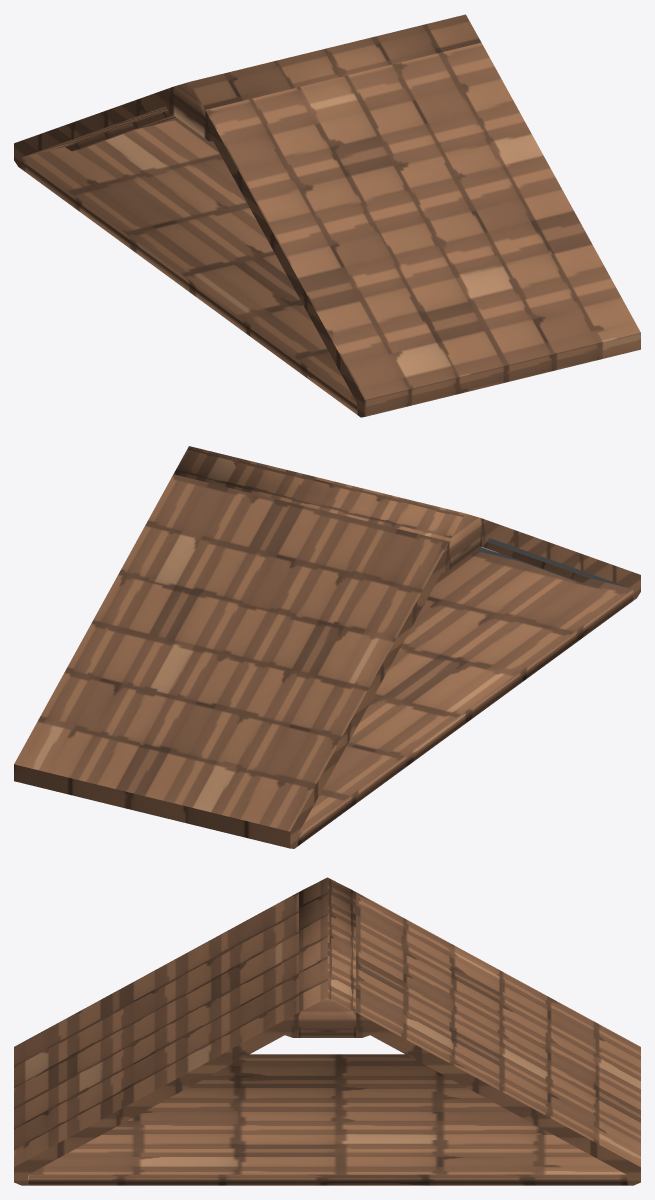
File: SM_Bld_Villa_Roof_Straight_01_edit.fbx
3 renders of one model, top to bottom at view 1: azimuth 30°, elevation 25°; view 2: azimuth 150°, elevation 25°; view 3: azimuth 270°, elevation 25°, orthographic. The views are drawn at different scales.
Parts seen in each view (by area): view 1: SM_Bld_Villa_Roof_Straight_01; view 2: SM_Bld_Villa_Roof_Straight_01; view 3: SM_Bld_Villa_Roof_Straight_01.
Part boxes in pixels (<box>): SM_Bld_Villa_Roof_Straight_01: <box>14,14,640,417</box>; SM_Bld_Villa_Roof_Straight_01: <box>14,446,640,848</box>; SM_Bld_Villa_Roof_Straight_01: <box>14,877,640,1185</box>.
Bounding box in the file's own units: 250 × 182 × 550.
